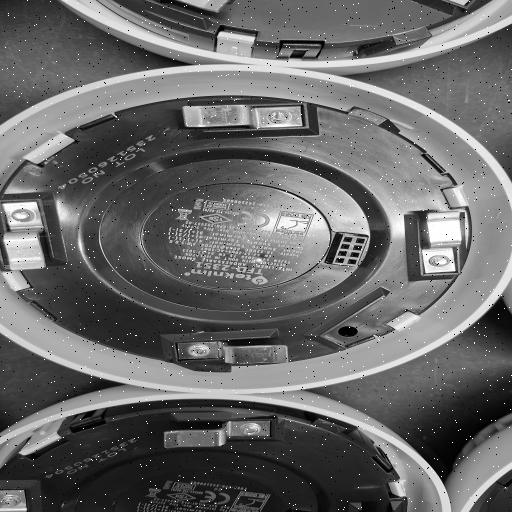konnektor: (319, 225, 383, 269)
yaysiz: (162, 98, 336, 148), (162, 324, 326, 372), (0, 191, 66, 283), (132, 414, 278, 453), (402, 199, 468, 282)
